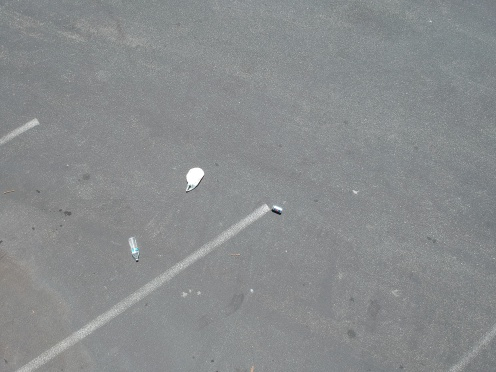bottle: (125, 234, 143, 262)
can: (269, 204, 286, 216)
plastic bag: (179, 160, 209, 195)
